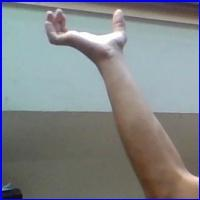space: (40, 5, 135, 66)
